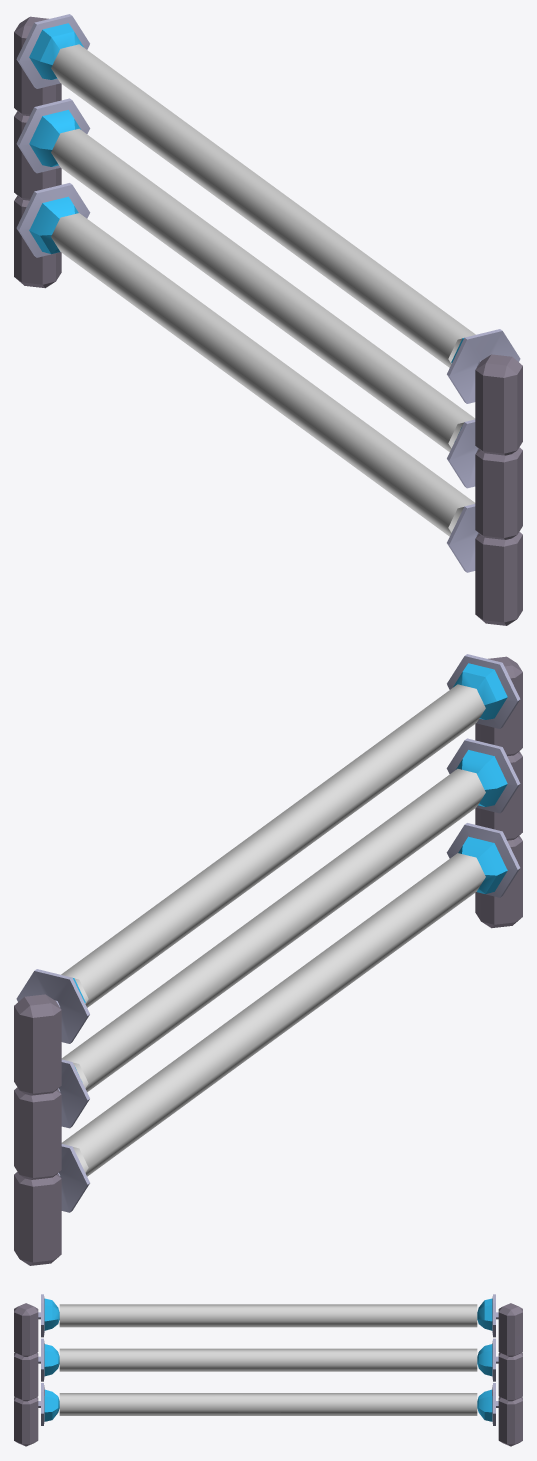
File: Electro.fbx
3 views of the same model, one above another, from view 1: azimuth 30°, elevation 25°; view 2: azimuth 150°, elevation 25°; view 3: azimuth 270°, elevation 25° (orthographic). The views are drawn at different scales.
Visible parts, largest first — view 1: Electro_vfx_mesh, Electro_wall1, Electro_wall2; view 2: Electro_vfx_mesh, Electro_wall2, Electro_wall1; view 3: Electro_vfx_mesh, Electro_wall1, Electro_wall2.
Boxes of the visible parts, x1,y1,x2,y2 form: Electro_vfx_mesh: (51, 44, 475, 536); Electro_wall1: (447, 329, 522, 625); Electro_wall2: (14, 14, 90, 288); Electro_vfx_mesh: (61, 684, 485, 1176); Electro_wall2: (14, 969, 89, 1265); Electro_wall1: (446, 654, 522, 928); Electro_vfx_mesh: (59, 1304, 477, 1415); Electro_wall1: (14, 1294, 59, 1446); Electro_wall2: (477, 1294, 522, 1446).
Bounding box in the file's own units: 0.3743 × 1.38 × 4.41.
